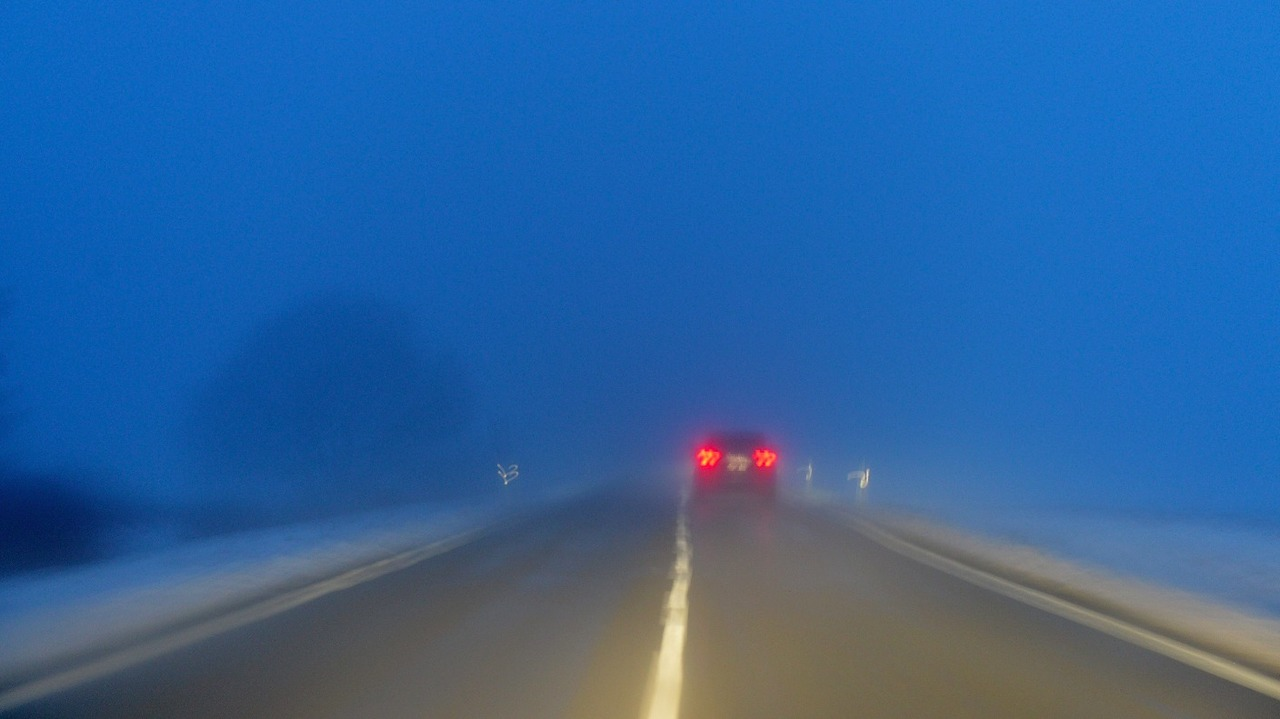car: (692, 424, 777, 500)
